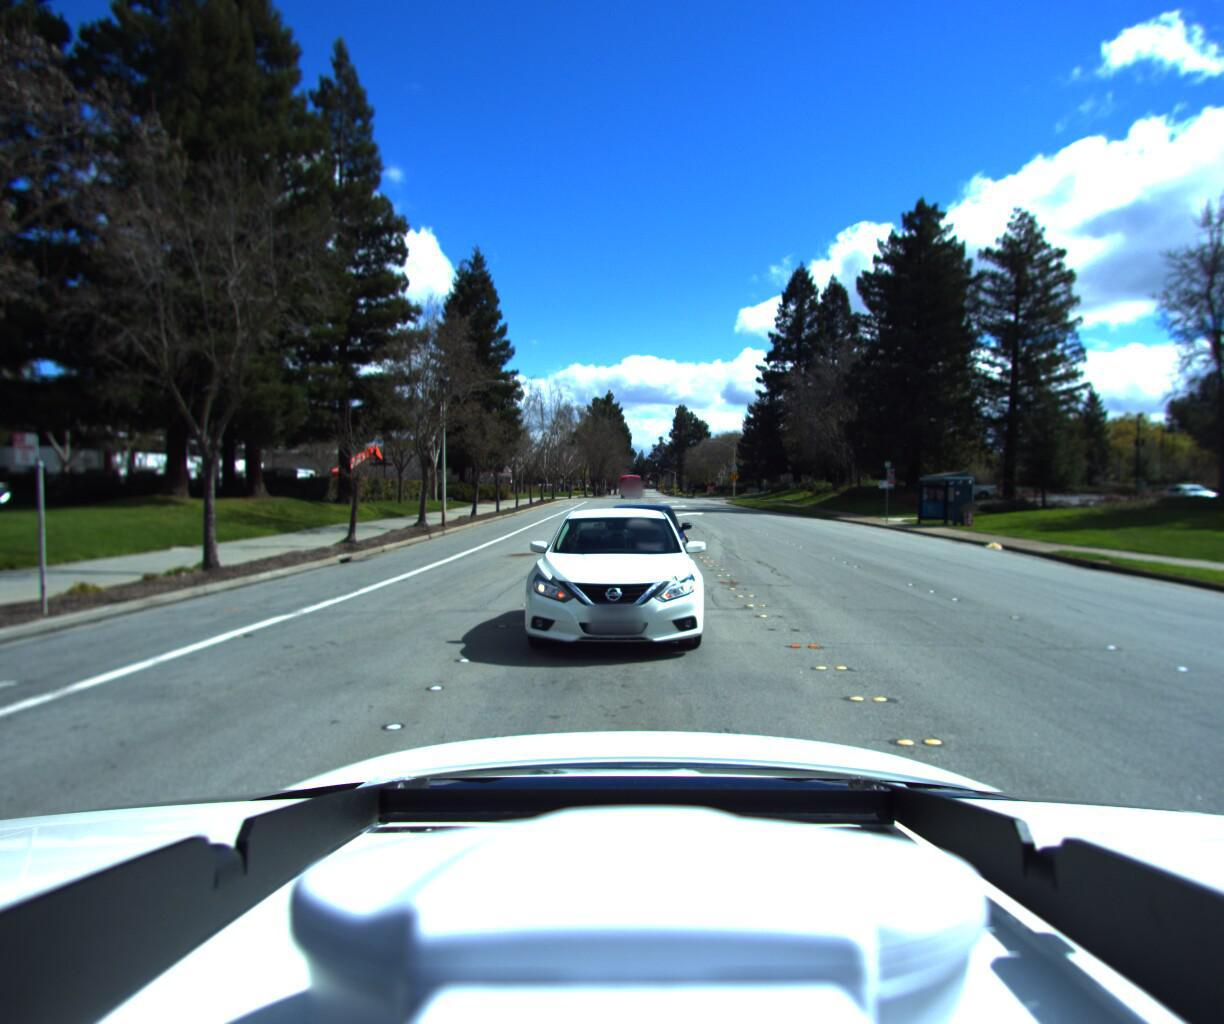car: (507, 506, 709, 675), (585, 501, 690, 586)
